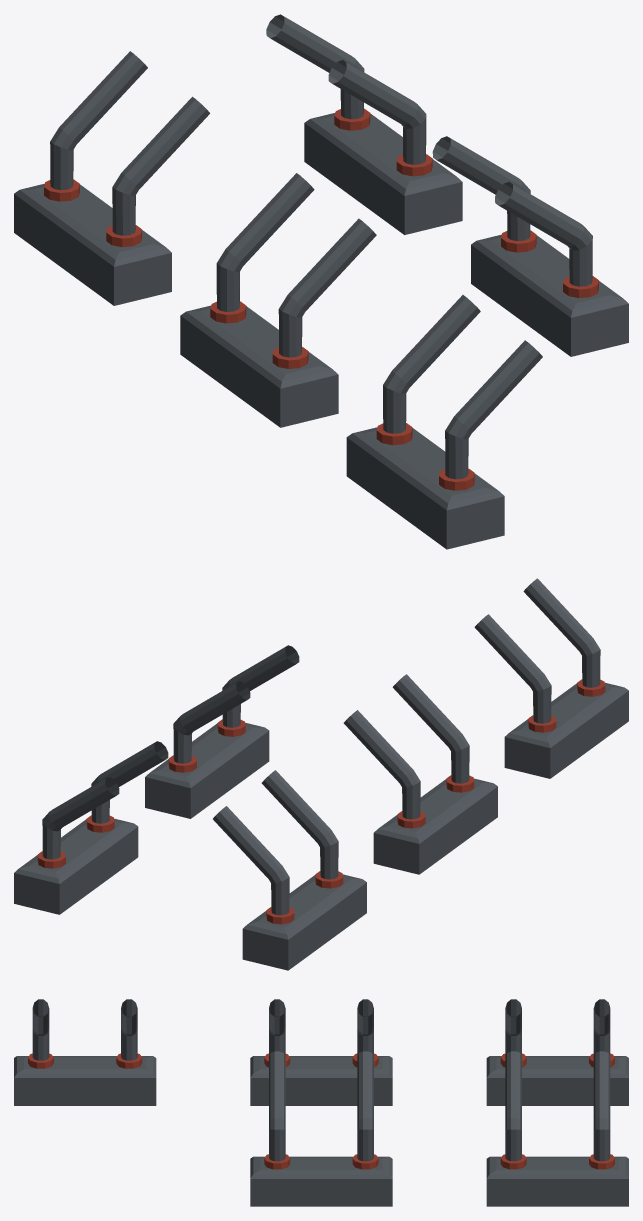
The model's file is Mothership_01_Pipe_Set_Red.fbx.
3 views of the same model, one above another, from view 1: azimuth 30°, elevation 25°; view 2: azimuth 150°, elevation 25°; view 3: azimuth 270°, elevation 25° (orthographic). The views are drawn at different scales.
Parts seen in each view (by area): view 1: Mothership_01_Pipe_Set_Red; view 2: Mothership_01_Pipe_Set_Red; view 3: Mothership_01_Pipe_Set_Red.
Part boxes in pixels (x1=…): Mothership_01_Pipe_Set_Red: x1=14, y1=14, x2=628, y2=549; Mothership_01_Pipe_Set_Red: x1=14, y1=578, x2=628, y2=970; Mothership_01_Pipe_Set_Red: x1=14, y1=999, x2=628, y2=1206.
Size of the model in its own units: 983 by 459 by 2115.
Materials: 1 (1 with a texture image).
